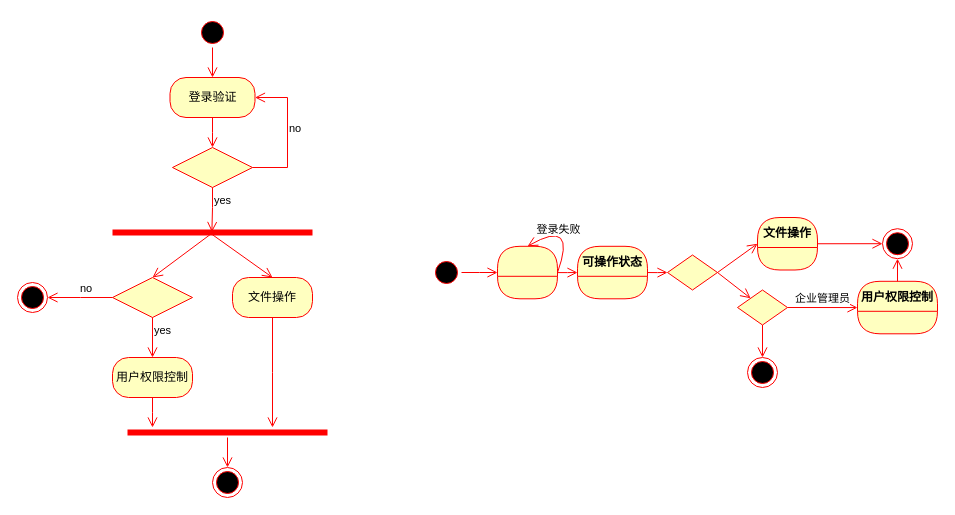
The diagram is 955 pixels wide and 515 high, and some of its shapes have lost their labels. Each missing label, with the box of its shape:
企业管理员？: (112, 276, 192, 318)
登录: (496, 245, 558, 299)
账号密码 正确？: (172, 146, 252, 188)
